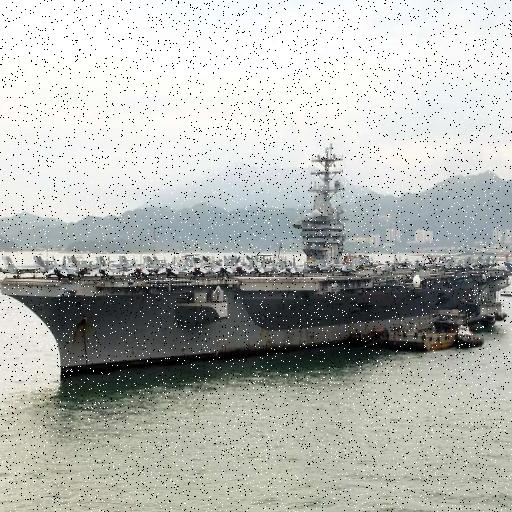Portanaves: (1, 119, 512, 389)
